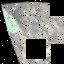Purslane: (0, 0, 64, 52)
